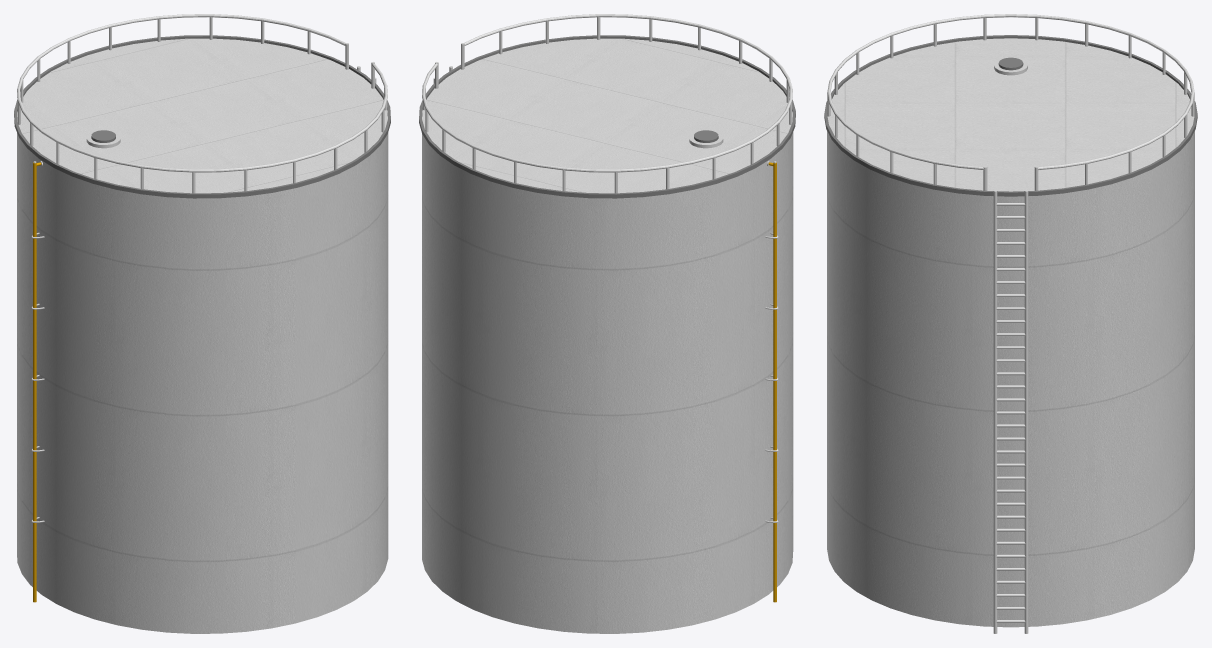
The model's file is FuelTank.fbx.
The picture shows the model from 3 angles, left to right: view 1: azimuth 30°, elevation 25°; view 2: azimuth 150°, elevation 25°; view 3: azimuth 270°, elevation 25°; orthographic projection.
Visible parts, largest first — view 1: Fuel Tank; view 2: Fuel Tank; view 3: Fuel Tank.
Boxes of the visible parts, box(x1,y1,x2,y2) form: Fuel Tank: box(14, 14, 390, 633); Fuel Tank: box(419, 14, 795, 633); Fuel Tank: box(824, 14, 1197, 633).
Bounding box in the file's own units: 209 × 279 × 203.
